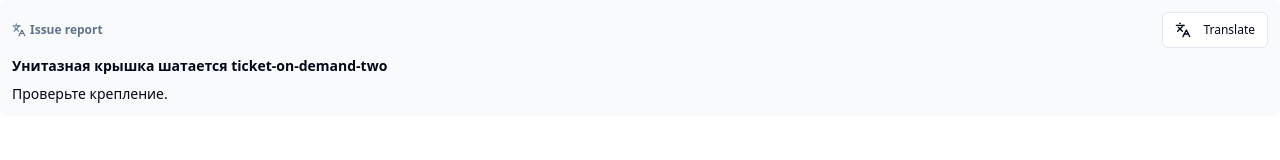
Test case: forwarded maintenance on-demand translation › retains original report and provides retry if translation fails
The width and height of the screenshot is (1280, 160).
Click the button "Translate": point(1215, 30) [1162, 12, 1268, 48]
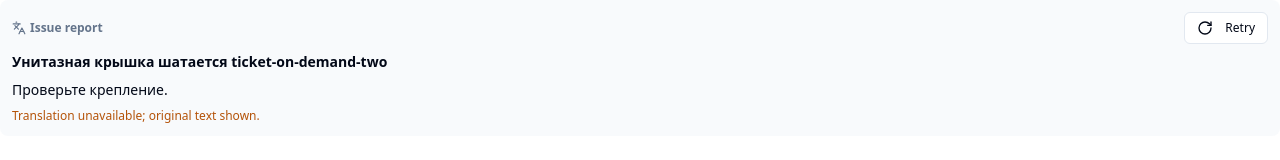
Expected: the text "Унитазная крышка шатается ticket-on-demand-two" is shown, [12, 52, 387, 71]
Now the text "Translation unavailable; original text shown." is shown, box [12, 107, 260, 124]
Click the button "Retry": point(1226, 28) [1184, 12, 1268, 44]
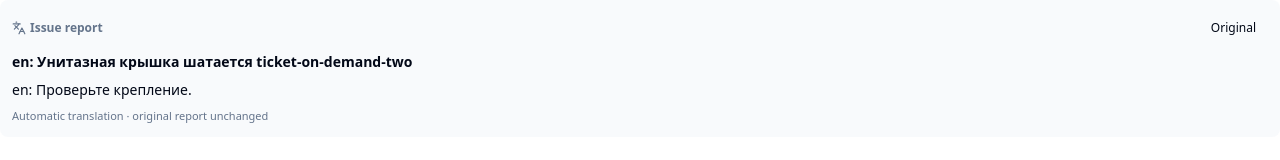
Now the text "en: Унитазная крышка шатается ticket-on-demand-two" is shown, box [12, 52, 412, 71]
